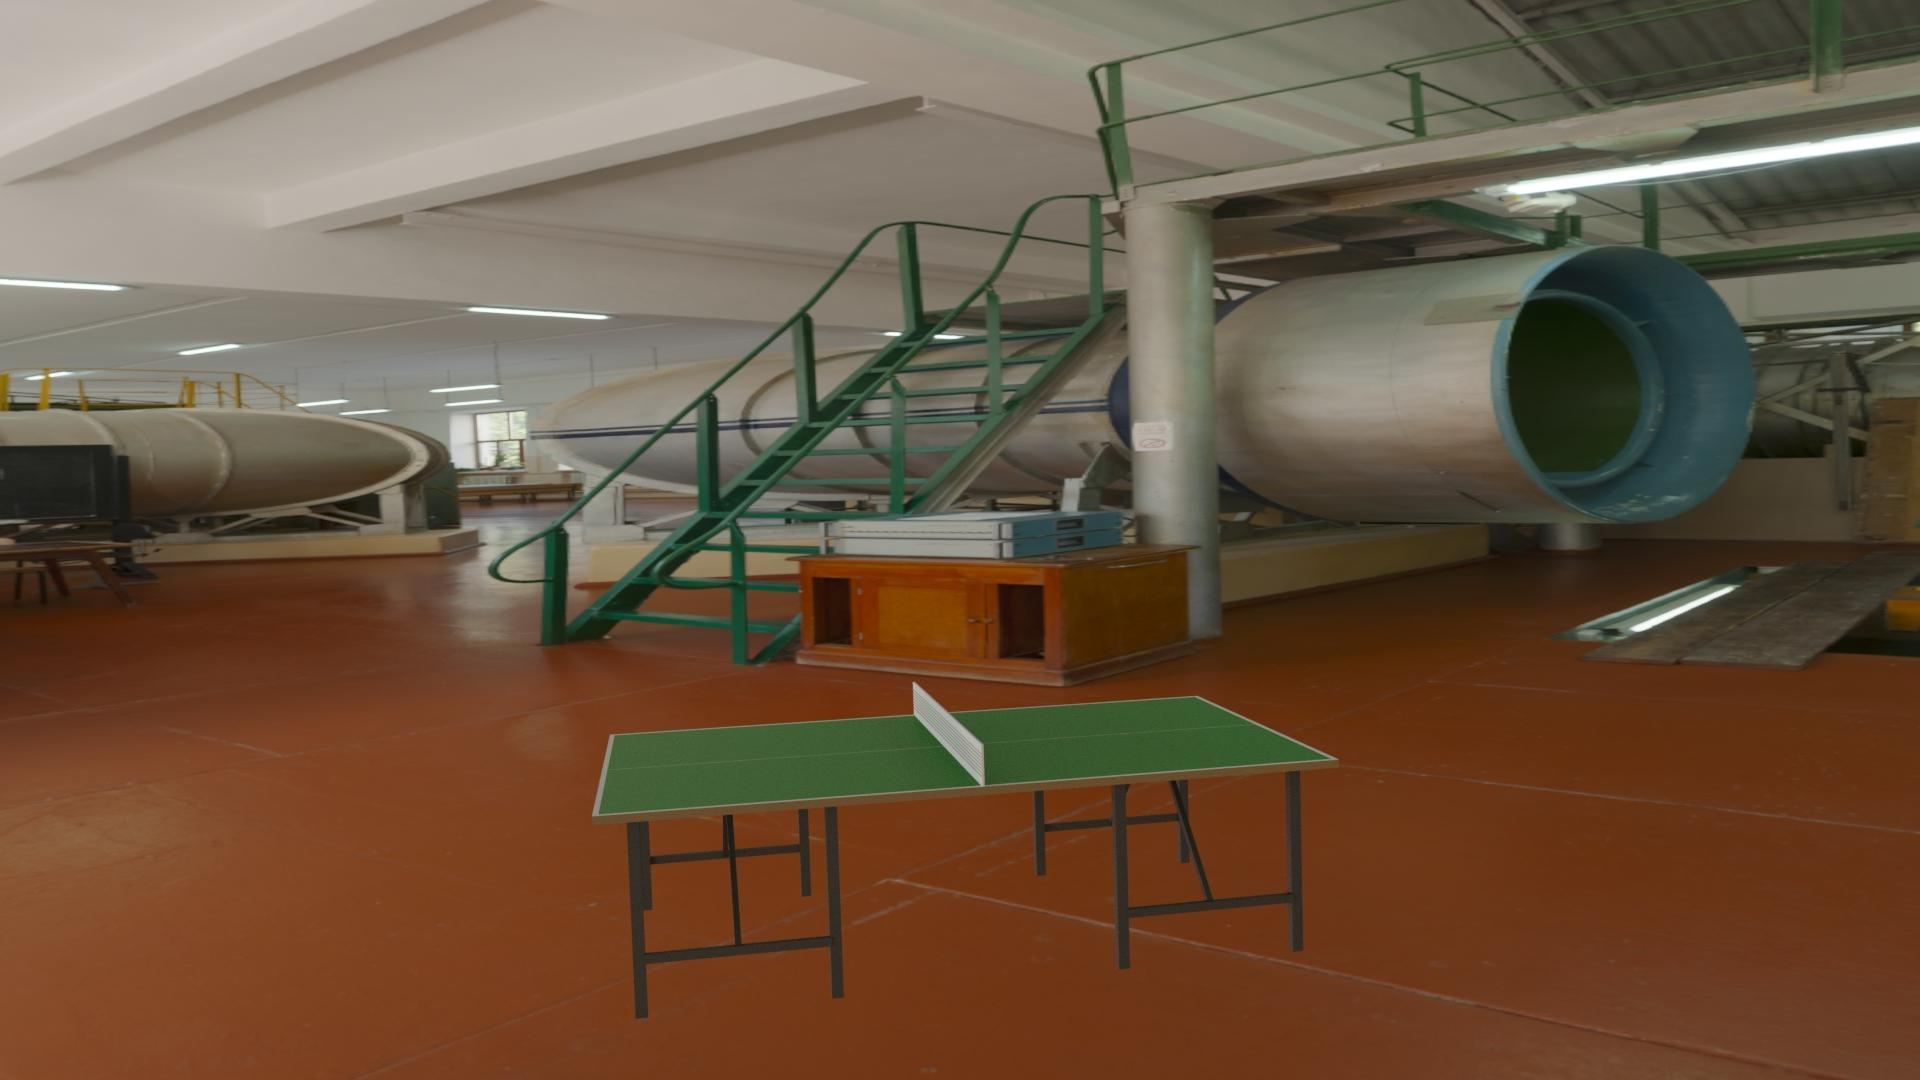table: (599, 696, 1332, 815)
